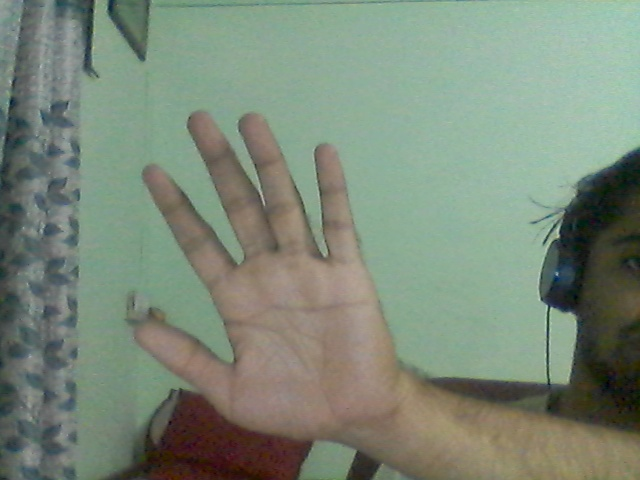Hello: (93, 71, 428, 468)
